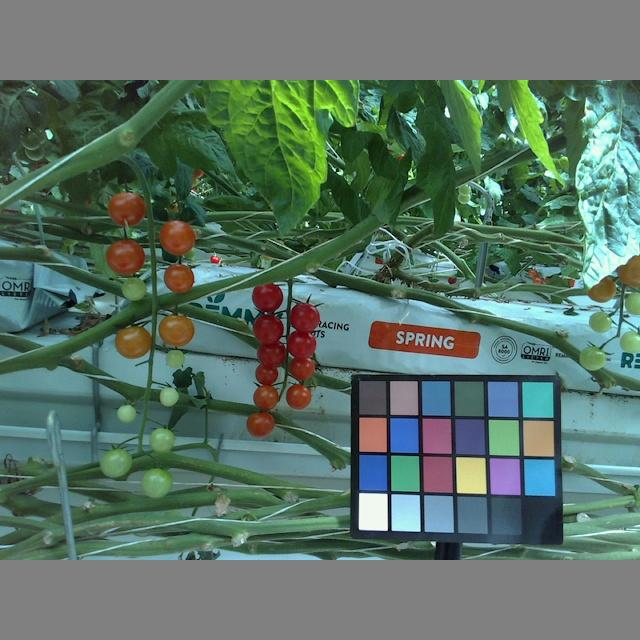green: (101, 447, 132, 478), (141, 465, 168, 499), (146, 430, 175, 455), (581, 345, 608, 371), (587, 311, 615, 333), (121, 278, 144, 302), (617, 332, 640, 356), (156, 387, 180, 406), (115, 402, 136, 423), (165, 348, 184, 368), (626, 292, 640, 315)
pink: (158, 218, 195, 255), (104, 240, 144, 272), (107, 193, 145, 226), (155, 316, 199, 343), (116, 327, 152, 357), (159, 268, 194, 293)
red: (249, 282, 284, 309), (287, 302, 321, 327), (252, 316, 283, 343), (246, 410, 276, 436), (289, 333, 316, 359), (249, 389, 283, 409), (289, 382, 311, 406), (258, 347, 284, 365), (253, 368, 278, 384), (293, 362, 316, 378)
